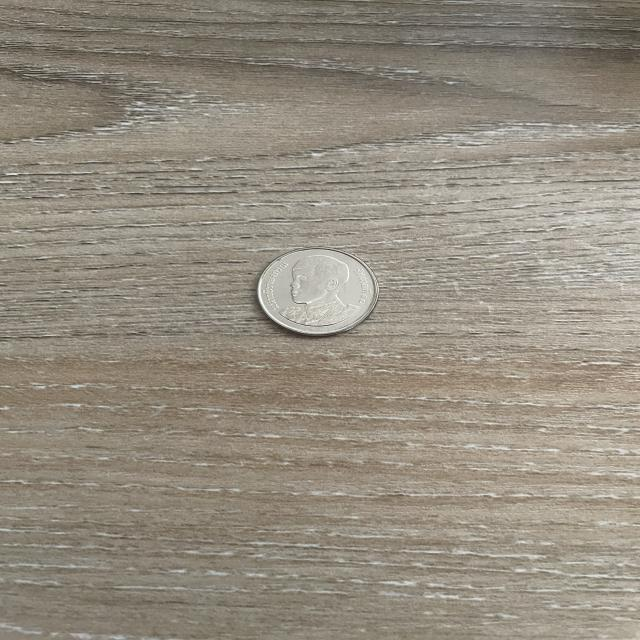1 Bath: (252, 241, 387, 342)
